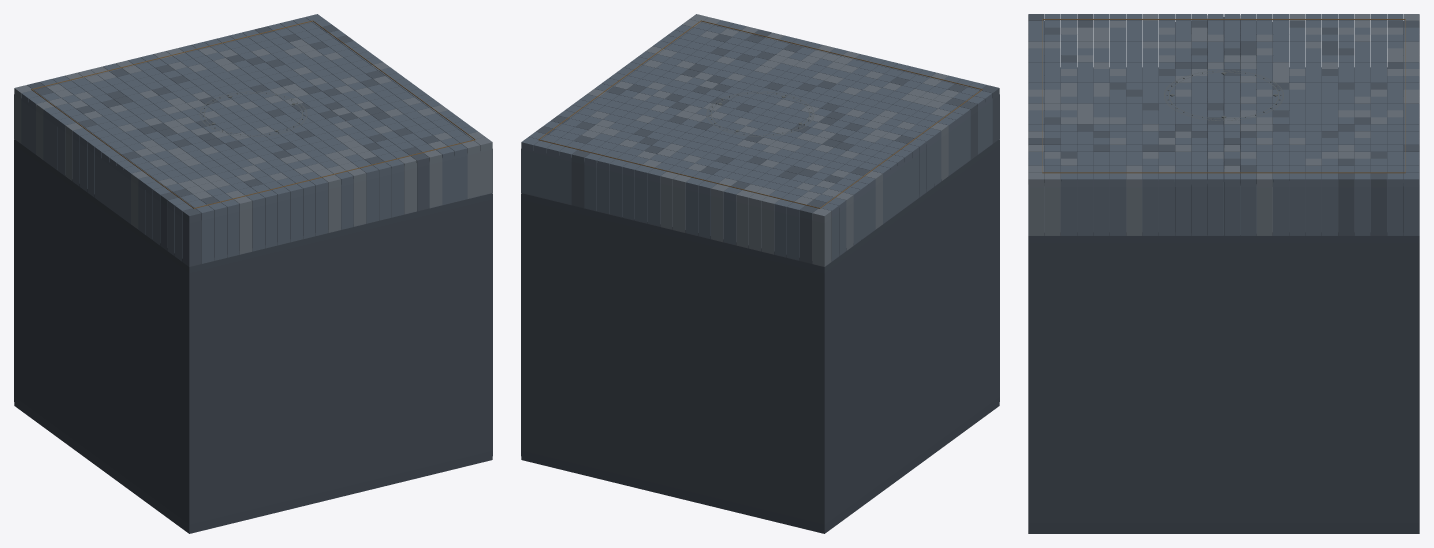
File: SM_PG_ArenaFloor.fbx
3 views of the same model, side by side, from view 1: azimuth 30°, elevation 25°; view 2: azimuth 150°, elevation 25°; view 3: azimuth 270°, elevation 25° (orthographic). The views are drawn at different scales.
Visible parts, largest first — view 1: SM_PG_ArenaFloor; view 2: SM_PG_ArenaFloor; view 3: SM_PG_ArenaFloor.
Boxes of the visible parts, x1,y1,x2,y2 form: SM_PG_ArenaFloor: (14, 14, 492, 533); SM_PG_ArenaFloor: (521, 14, 999, 533); SM_PG_ArenaFloor: (1028, 14, 1419, 533).
Size of what is drawn, in the model's own units: 100 by 100 by 100.
